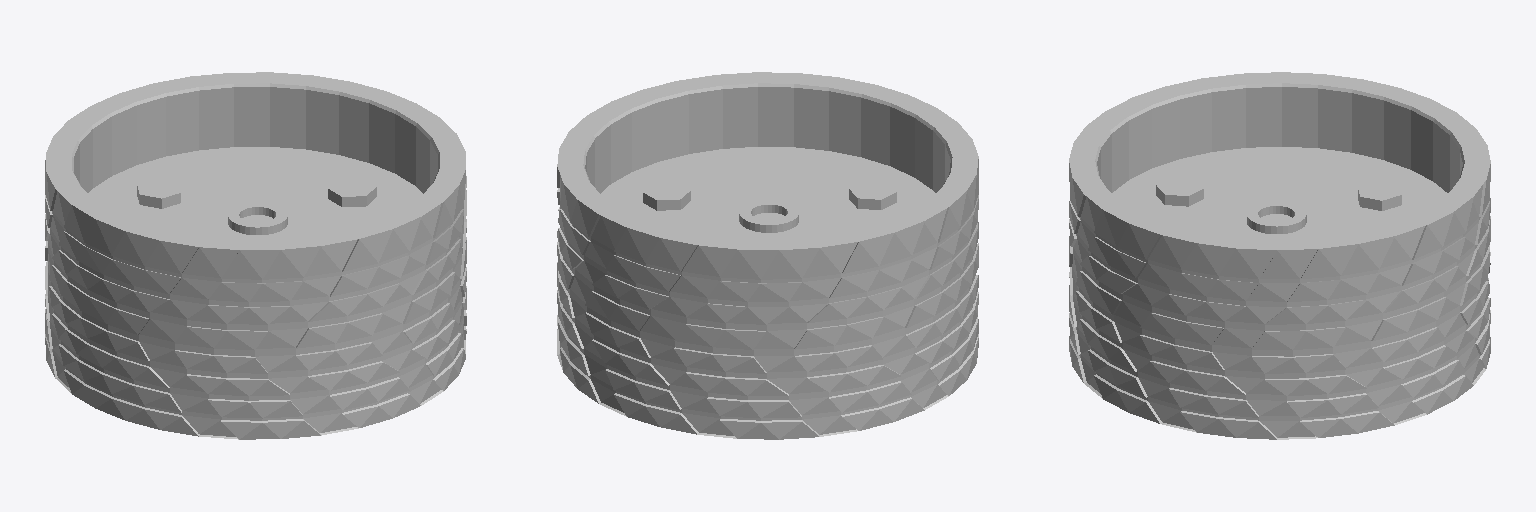
The model's file is roue.obj.
3 views of the same model, side by side, from view 1: azimuth 30°, elevation 25°; view 2: azimuth 150°, elevation 25°; view 3: azimuth 270°, elevation 25° (orthographic).
Visible parts, largest first — view 1: Circle.003_Circle.001; view 2: Circle.003_Circle.001; view 3: Circle.003_Circle.001.
Part boxes in pixels (x1,y1,x2,y2): Circle.003_Circle.001: (45,72,466,439); Circle.003_Circle.001: (557,72,978,439); Circle.003_Circle.001: (1069,72,1490,439).
Bounding box in the file's own units: 1.61 × 0.7967 × 1.61.